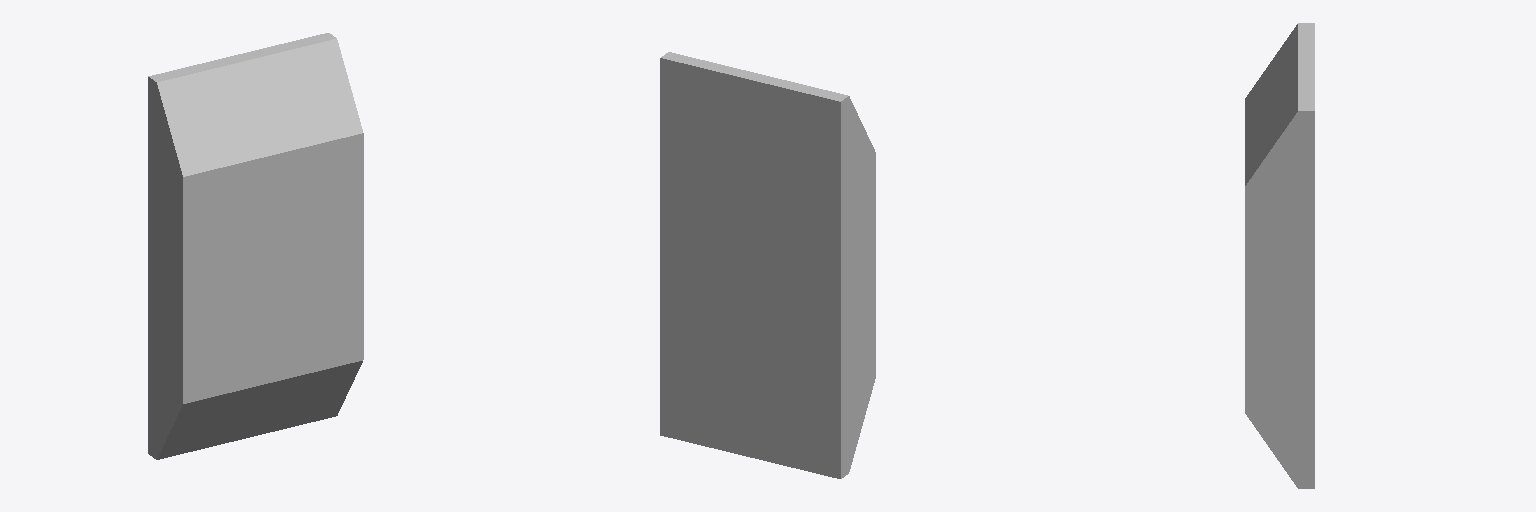
File: dynarmor.obj
3 views of the same model, side by side, from view 1: azimuth 30°, elevation 25°; view 2: azimuth 150°, elevation 25°; view 3: azimuth 270°, elevation 25° (orthographic).
Parts seen in each view (by area): view 1: Cube; view 2: Cube; view 3: Cube.
Boxes of the visible parts, box(x1,y1,x2,y2) form: Cube: box(148, 33, 363, 459); Cube: box(660, 52, 875, 478); Cube: box(1245, 23, 1314, 488).
Size of the model in its own units: 0.9 by 1.8 by 0.3.